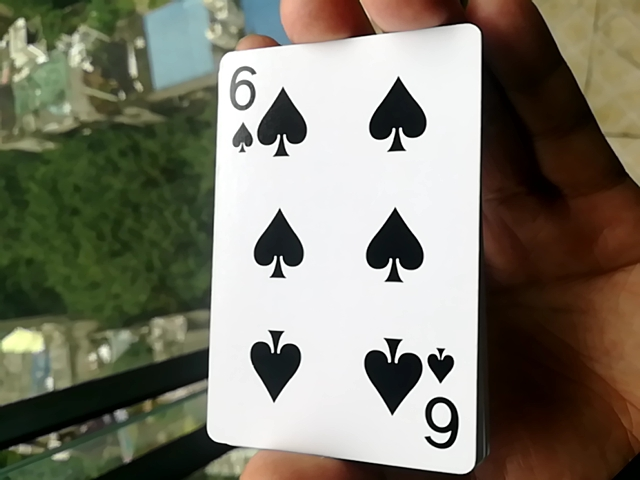ht 6: (211, 18, 468, 477)
